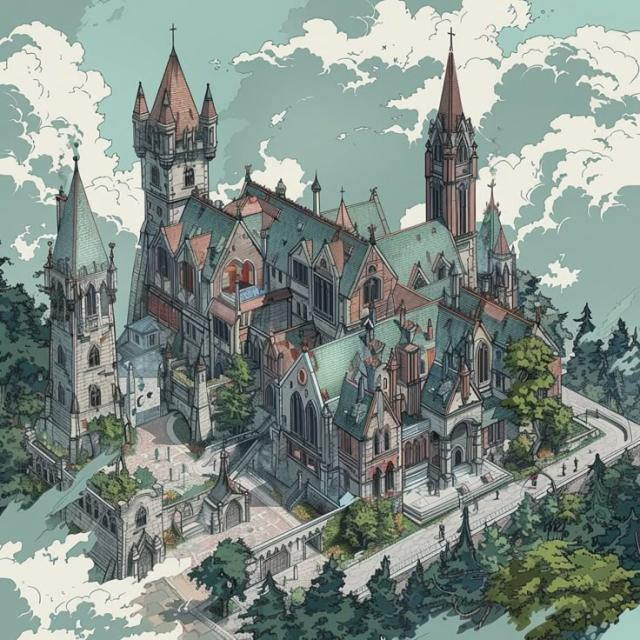castle: (16, 19, 593, 530)
